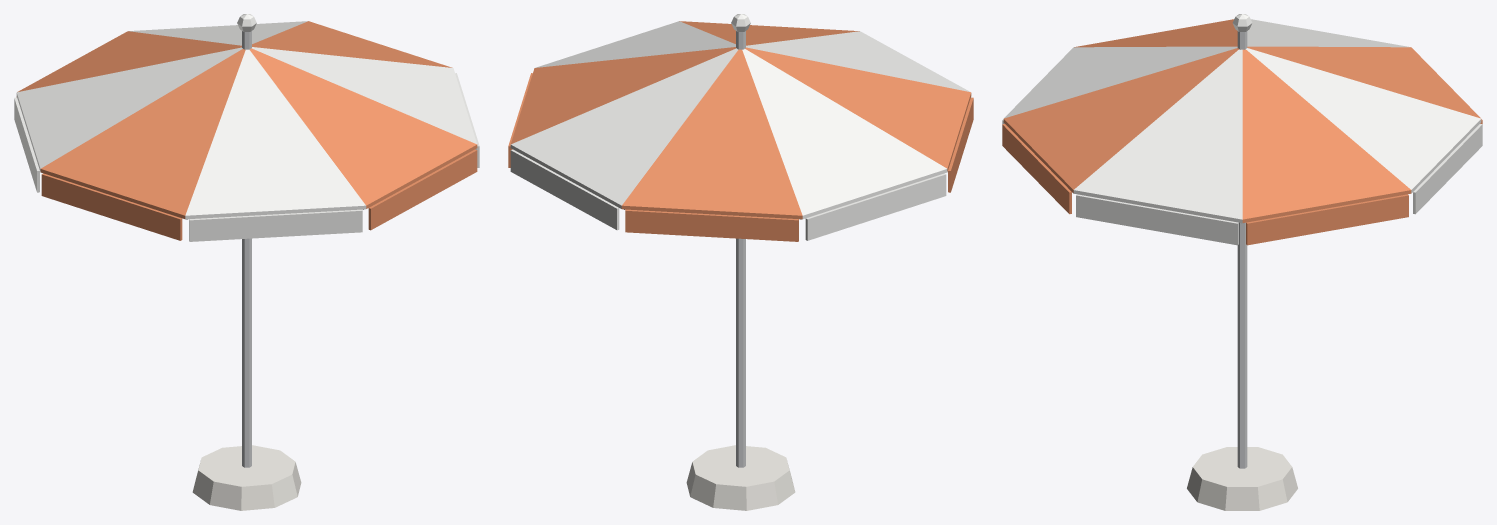
The model's file is HJ_Sombrilla.fbx.
3 views of the same model, side by side, from view 1: azimuth 30°, elevation 25°; view 2: azimuth 150°, elevation 25°; view 3: azimuth 270°, elevation 25° (orthographic).
Parts seen in each view (by area): view 1: HJ_Sombrilla; view 2: HJ_Sombrilla; view 3: HJ_Sombrilla.
Part boxes in pixels (left/top/right/bottom): HJ_Sombrilla: left=14, top=14, right=479, bottom=510; HJ_Sombrilla: left=508, top=14, right=973, bottom=510; HJ_Sombrilla: left=1002, top=14, right=1482, bottom=510.
Bounding box in the file's own units: 2.41 × 2.63 × 2.41.
